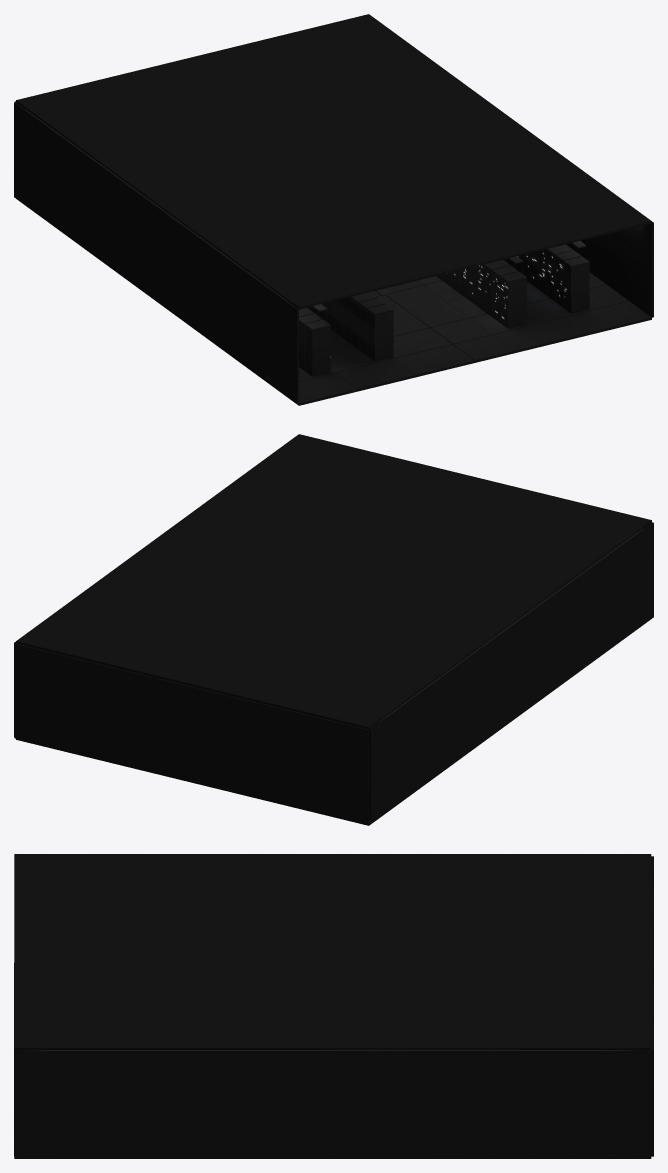
File: server-room.glb
3 renders of one model, top to bottom at view 1: azimuth 30°, elevation 25°; view 2: azimuth 150°, elevation 25°; view 3: azimuth 270°, elevation 25°, orthographic. The views are drawn at different scales.
Parts seen in each view (by area): view 1: room; view 2: room; view 3: room.
Part boxes in pixels (box(x1,y1,x2,y2)): room: box(14, 14, 653, 405); room: box(14, 434, 653, 825); room: box(14, 854, 653, 1158).
Size of the model in its own units: 18.2 by 4.8 by 25.11.
Materials: 4 (1 with a texture image).
